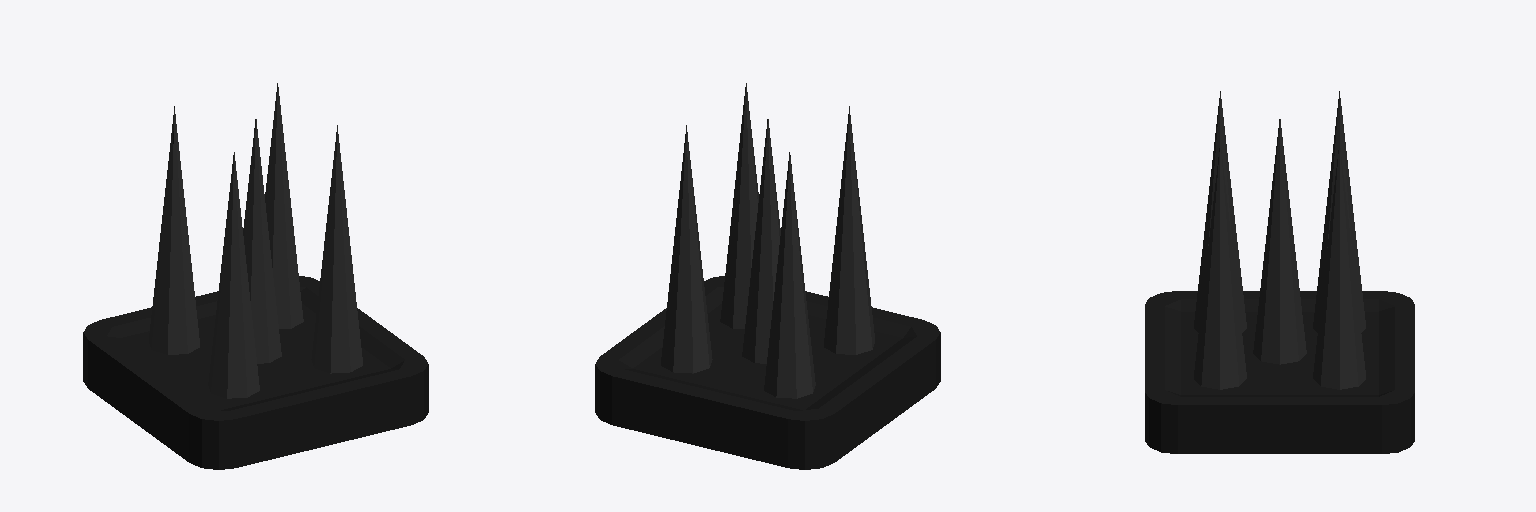
3 renders of one model, left to right at view 1: azimuth 30°, elevation 25°; view 2: azimuth 150°, elevation 25°; view 3: azimuth 270°, elevation 25°, orthographic.
Parts seen in each view (by area): view 1: Kolec_wiele; view 2: Kolec_wiele; view 3: Kolec_wiele.
Part boxes in pixels (x1,y1,x2,y2): Kolec_wiele: (83,83,428,469); Kolec_wiele: (595,83,940,469); Kolec_wiele: (1145,91,1414,453).
Size of the model in its own units: 10 by 11.5 by 10.
Materials: 2 (1 with a texture image).